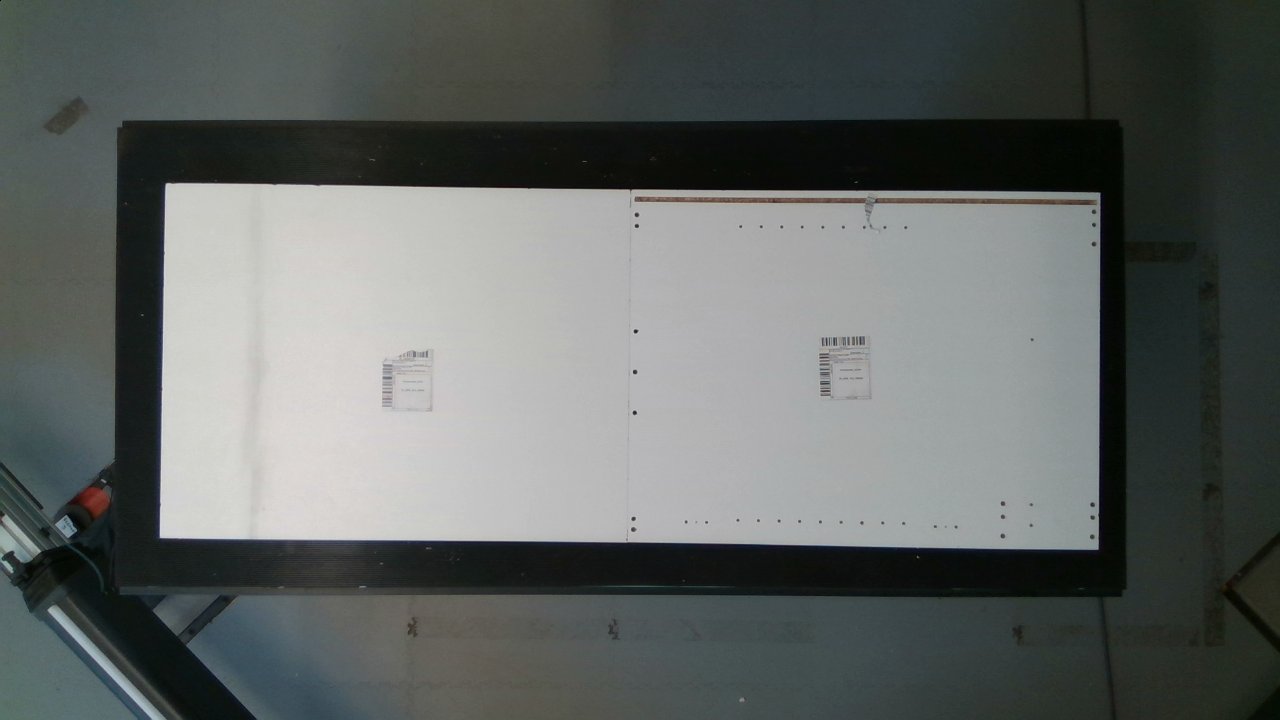barcode: (808, 321, 890, 408), (364, 343, 449, 419)
part2: (145, 172, 634, 543)
